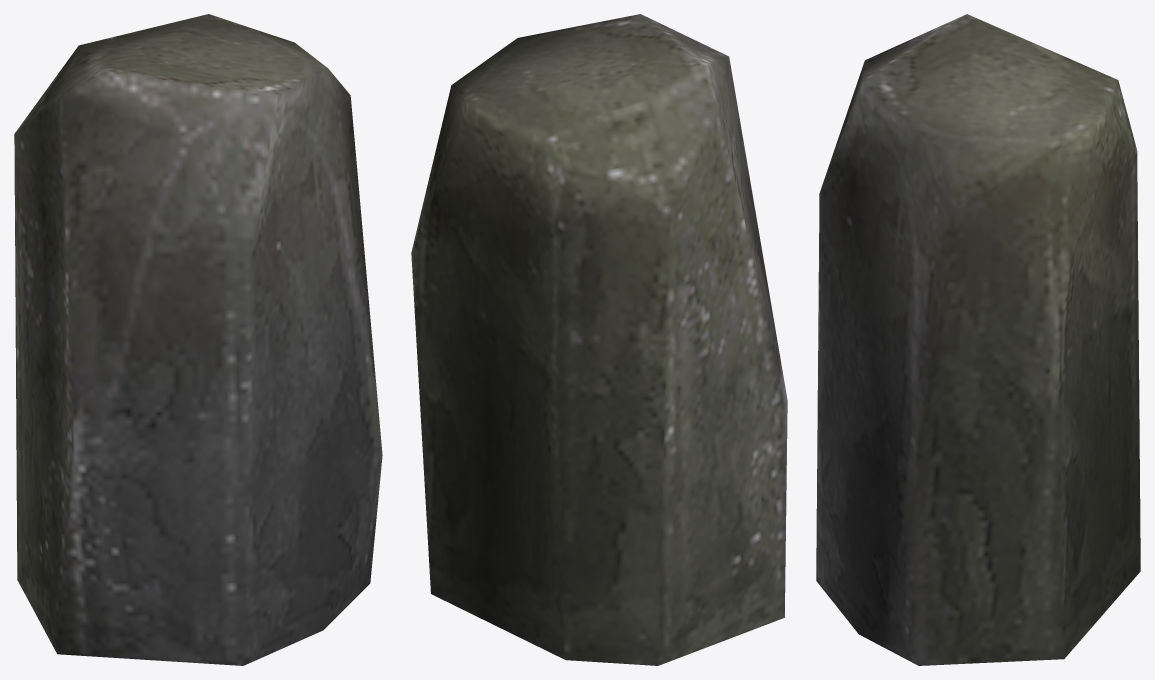
File: rock3.fbx
3 views of the same model, side by side, from view 1: azimuth 30°, elevation 25°; view 2: azimuth 150°, elevation 25°; view 3: azimuth 270°, elevation 25° (orthographic). The views are drawn at different scales.
Visible parts, largest first — view 1: rocks1_2; view 2: rocks1_2; view 3: rocks1_2.
Boxes of the visible parts, x1=… form: rocks1_2: x1=14, y1=14, x2=382, y2=665; rocks1_2: x1=411, y1=14, x2=787, y2=665; rocks1_2: x1=816, y1=14, x2=1140, y2=665.
Size of the model in its own units: 143 by 242 by 131.
